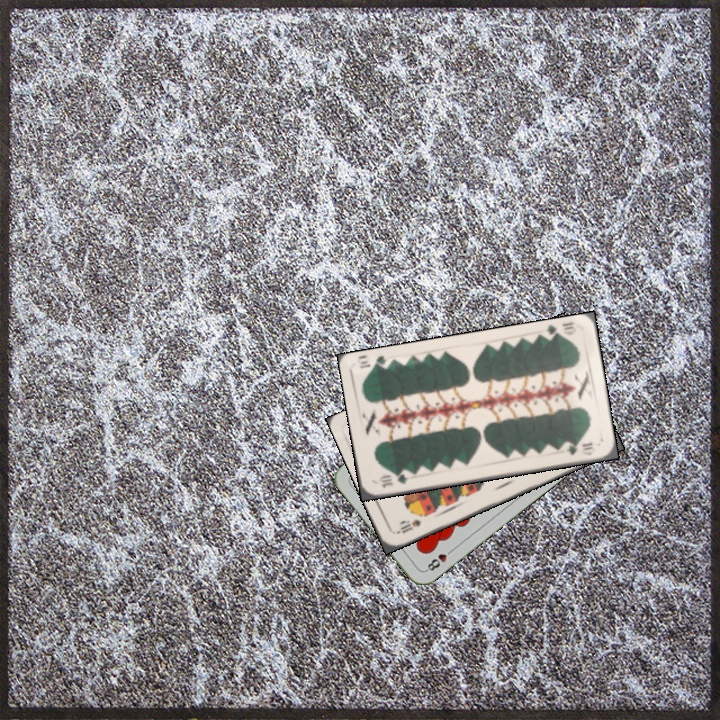G10: (540, 318, 579, 343), (375, 470, 412, 491)
H8: (422, 544, 456, 574)
S10: (392, 515, 424, 537)
